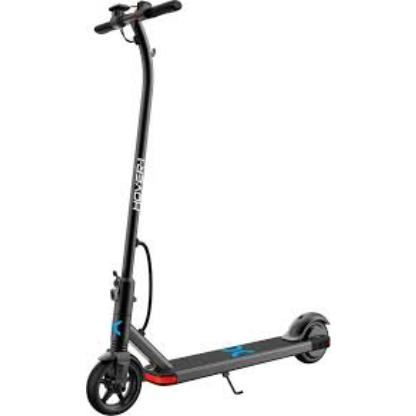bike: (81, 2, 353, 416)
